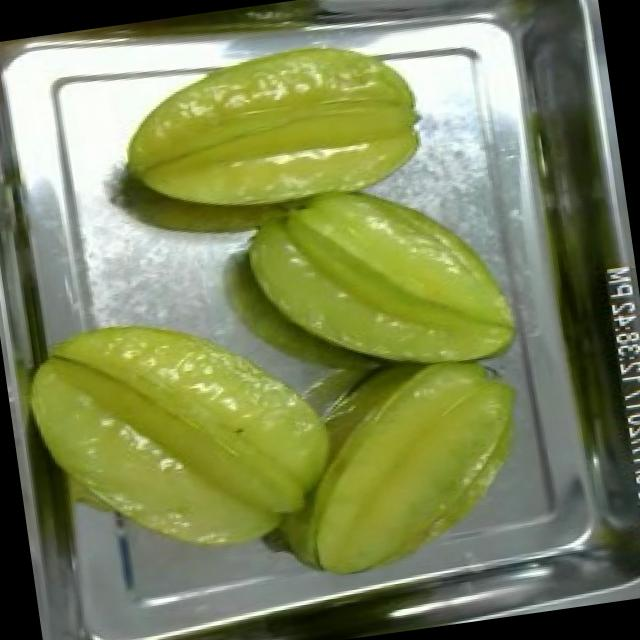fruit: (6, 286, 357, 590), (220, 156, 536, 412), (102, 21, 446, 244), (269, 332, 548, 592)
